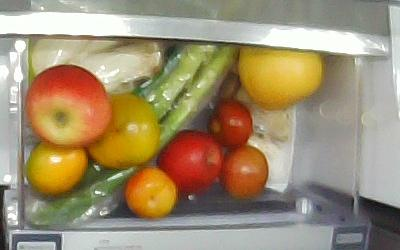apple: (21, 65, 112, 146), (159, 130, 222, 194)
grapefruit: (239, 40, 323, 109)
persimmon: (83, 92, 158, 168), (24, 135, 87, 197)
prune: (124, 168, 176, 220), (219, 146, 269, 197), (207, 99, 254, 146)
